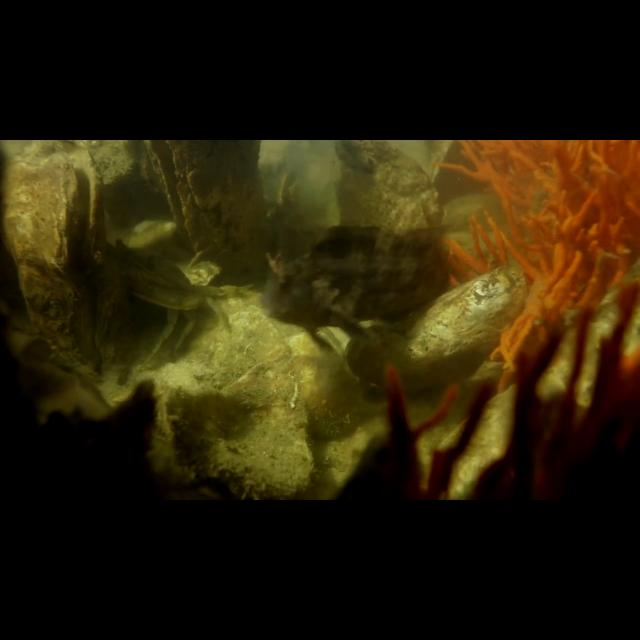Oyster-Closed: (104, 236, 205, 312)
Oyster-Open: (0, 141, 131, 379), (143, 142, 267, 280)
